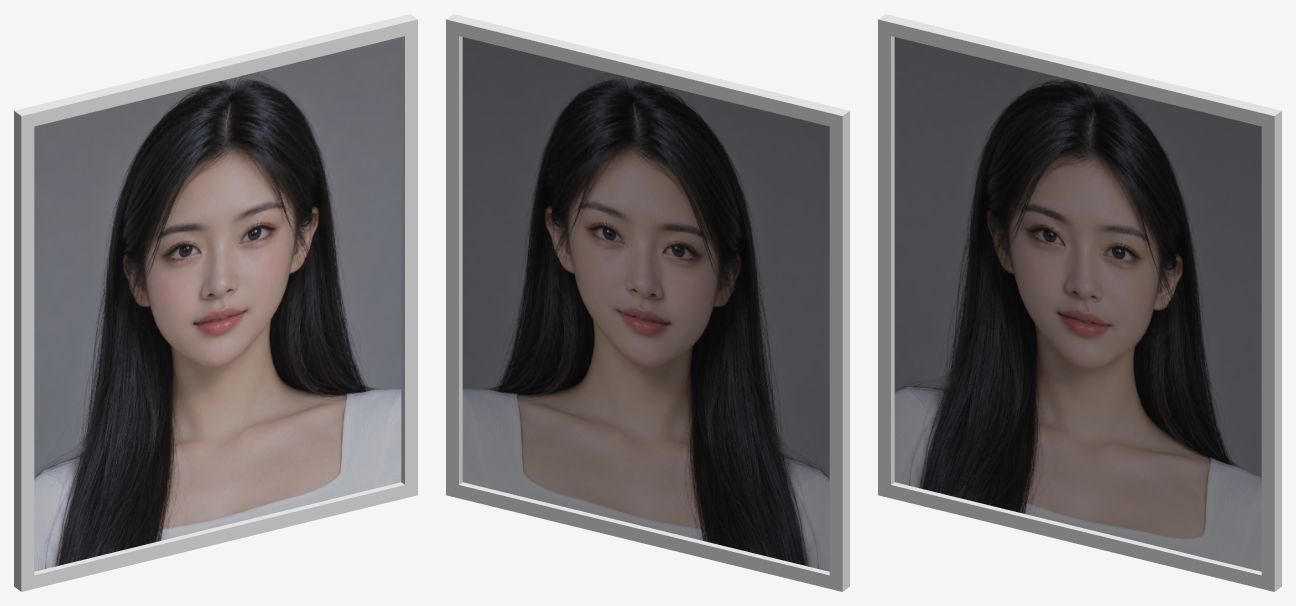
The picture shows the model from 3 angles, left to right: view 1: azimuth 30°, elevation 25°; view 2: azimuth 150°, elevation 25°; view 3: azimuth 330°, elevation 25°; orthographic projection.
Bounding box in the file's own units: 0.9243 × 1.06 × 0.03.
Materials: 5 (1 with a texture image).
